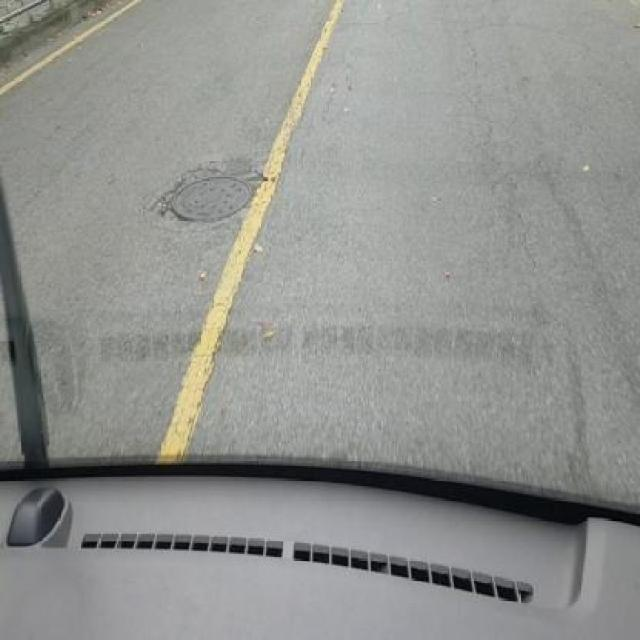Manhole: (158, 168, 258, 223)
